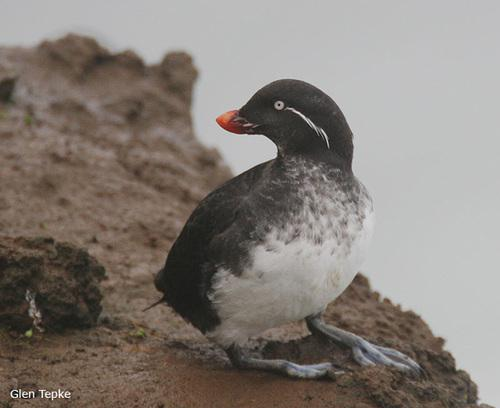007.Parakeet_Auklet: (154, 77, 426, 382)
